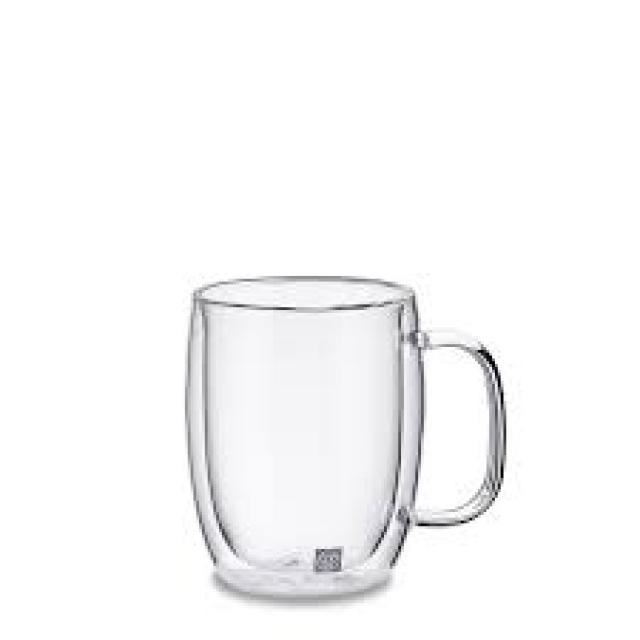Dry Waste: (179, 270, 511, 609)
